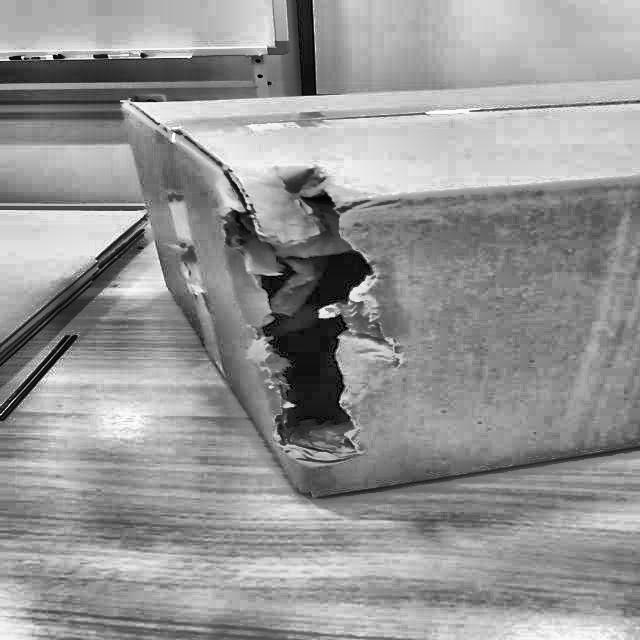box: (108, 73, 639, 507)
hole: (206, 199, 382, 448)
